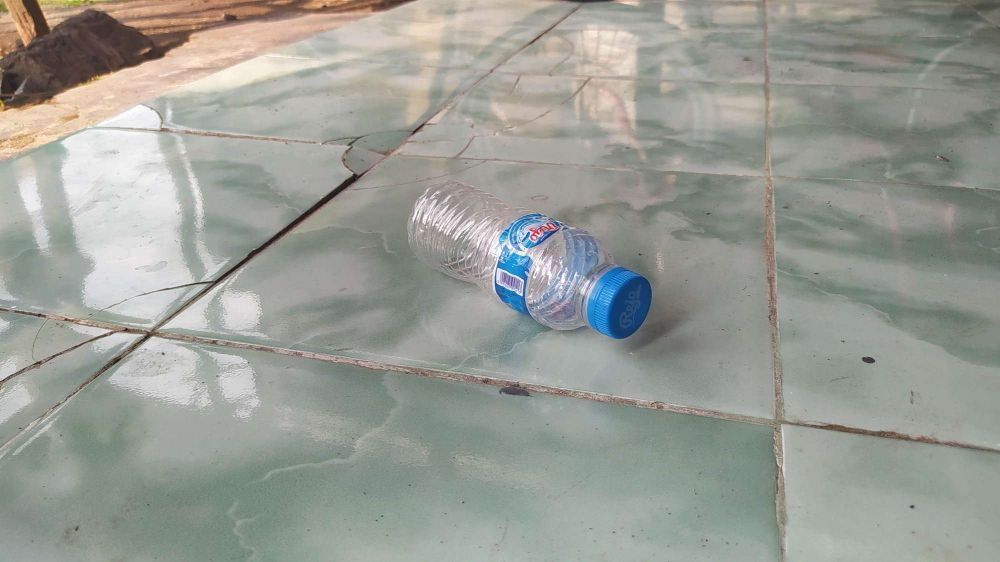botol: (390, 161, 675, 358)
